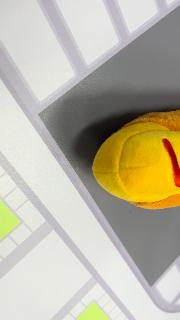hotdog: (91, 110, 179, 210)
